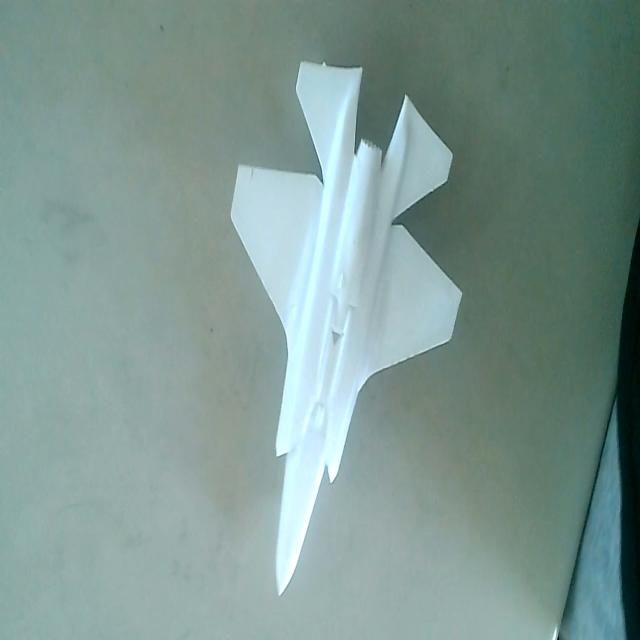Jet: (228, 48, 468, 607)
